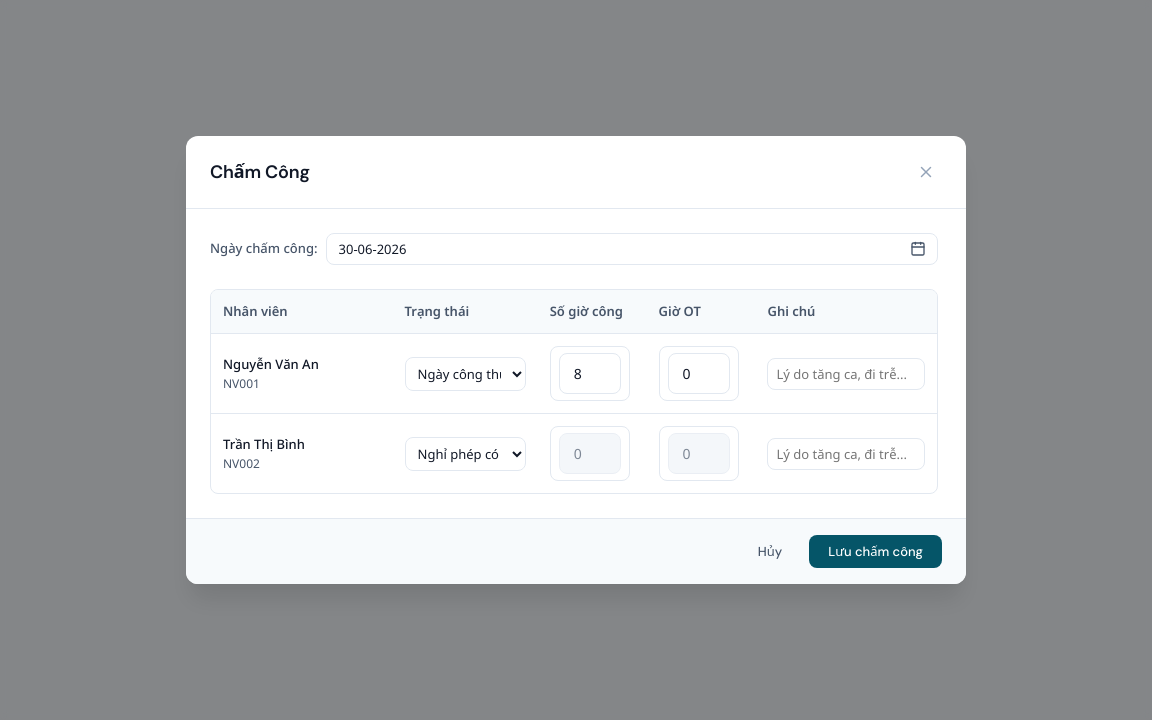
Test: BatchAttendanceModal › disables and resets hours inputs based on the selected status and restricts options
Expected: the text "Nguyễn Văn An" is shown, [223,355,319,373]
Expected: the number field named "Số giờ công của Nguyễn Văn An" is enabled, [559,353,621,394]
# Change status to 'paid_leave'
Select "Nghỉ phép có lương" in the dropdown named "Trạng thái của Nguyễn Văn An" at [465, 374], box [404,357,526,391]
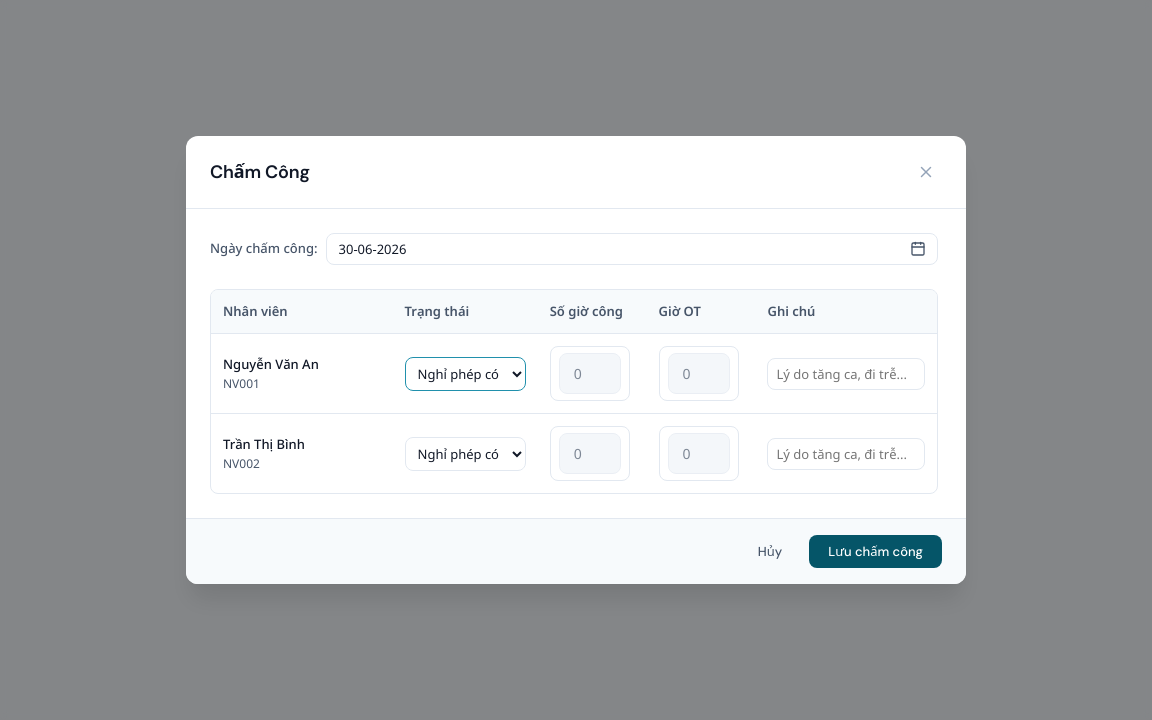
Expected: the number field named "Số giờ công của Nguyễn Văn An" is disabled, [559,353,621,394]
Expected: the number field named "Số giờ công của Nguyễn Văn An" holds "0", [559,353,621,394]
Expected: the number field named "Giờ OT của Nguyễn Văn An" is disabled, [668,353,730,394]
# Change status to 'unpaid_leave'
Select "Nghỉ không lương" in the dropdown named "Trạng thái của Nguyễn Văn An" at [465, 374], box [404,357,526,391]
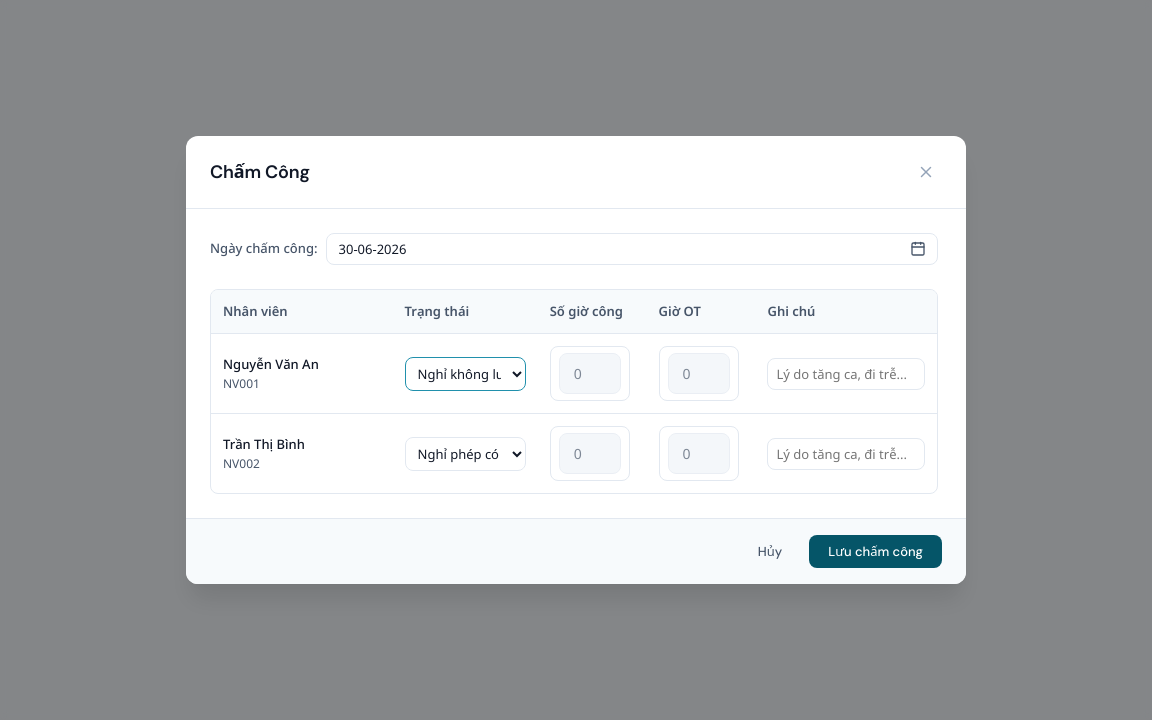
Expected: the number field named "Số giờ công của Nguyễn Văn An" is disabled, [559,353,621,394]
Expected: the number field named "Số giờ công của Nguyễn Văn An" holds "0", [559,353,621,394]
Expected: the number field named "Giờ OT của Nguyễn Văn An" is disabled, [668,353,730,394]
# Change status to 'holiday'
Select "Nghỉ lễ" in the dropdown named "Trạng thái của Nguyễn Văn An" at [465, 374], box [404,357,526,391]
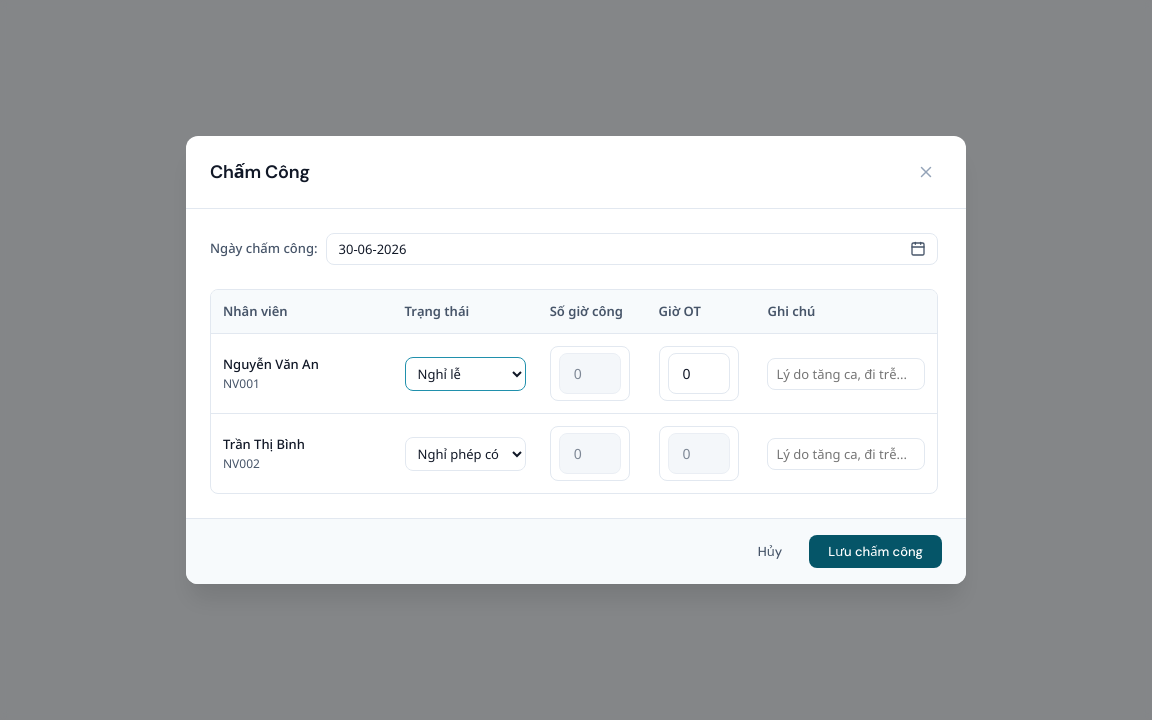
Expected: the number field named "Số giờ công của Nguyễn Văn An" is disabled, [559,353,621,394]
Expected: the number field named "Số giờ công của Nguyễn Văn An" holds "0", [559,353,621,394]
Expected: the number field named "Giờ OT của Nguyễn Văn An" is enabled, [668,353,730,394]
